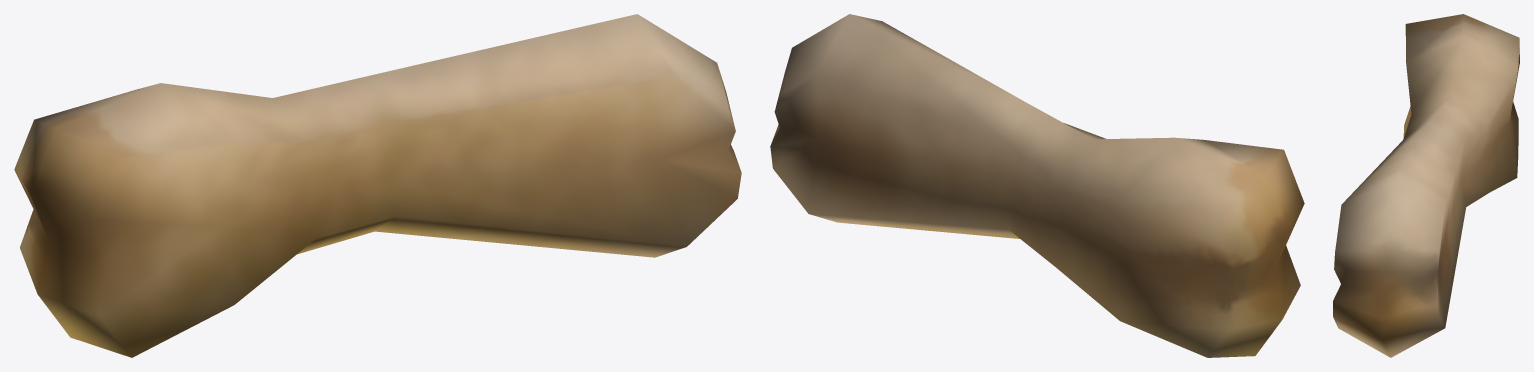
Rendered from skeleton.015.fbx.
3 renders of one model, left to right at view 1: azimuth 30°, elevation 25°; view 2: azimuth 150°, elevation 25°; view 3: azimuth 270°, elevation 25°, orthographic. The views are drawn at different scales.
Parts seen in each view (by area): view 1: skeleton.015; view 2: skeleton.015; view 3: skeleton.015.
Boxes of the visible parts, <box> form: skeleton.015: <box>14,14,741,357</box>; skeleton.015: <box>770,14,1304,357</box>; skeleton.015: <box>1333,14,1519,357</box>.
Bounding box in the file's own units: 31.53 × 11.49 × 11.3.
